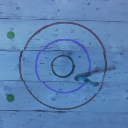Axe Tip: (77, 73, 91, 75)
